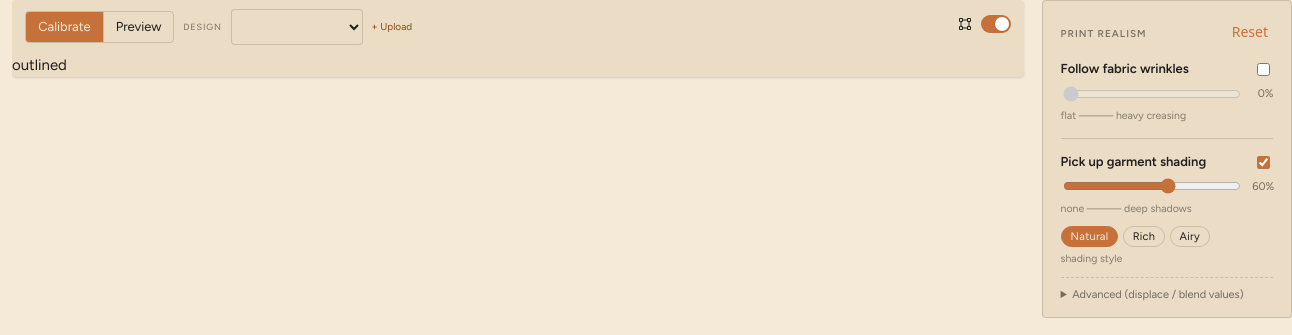
Test: EditorShell › draws the canvas with outlines on, and lets them be switched off
This screenshot has width=1292, height=335.
Expected: the text with test id "canvas" reads "outlined", x1=12 y1=56 x2=67 y2=74
Click the switch named "Show design box". click: (996, 24)
box: x1=981 y1=15 x2=1011 y2=33
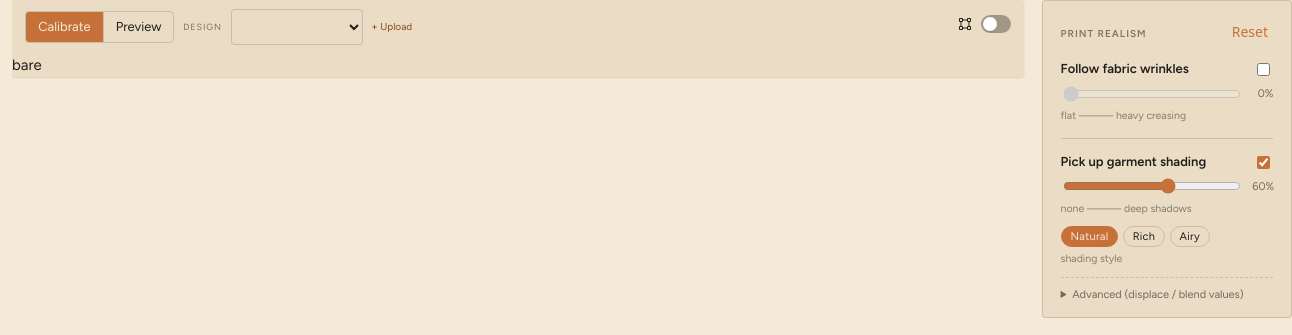
Result: the switch named "Show design box" is not checked at x1=981 y1=15 x2=1011 y2=33
Result: the text with test id "canvas" reads "bare" at x1=12 y1=56 x2=42 y2=74
